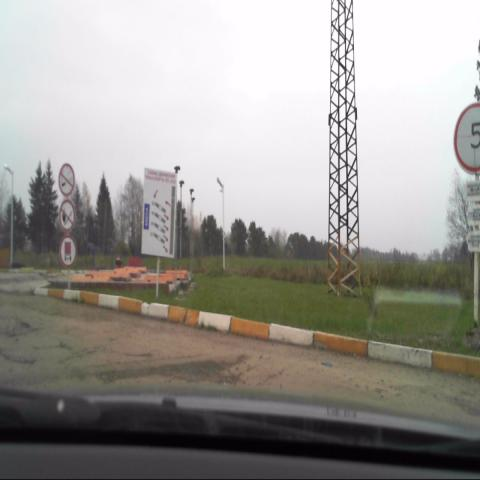3_32: (60, 237, 76, 270)
